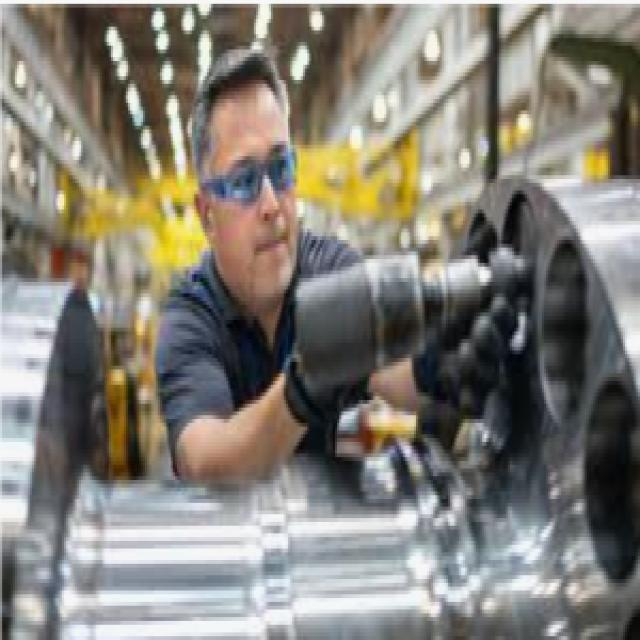glasses: (208, 156, 315, 209)
